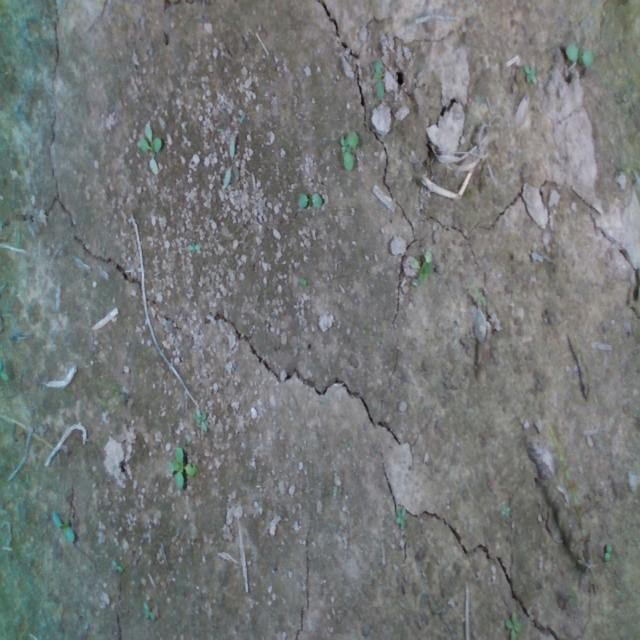weed: (168, 442, 196, 495), (564, 36, 594, 73), (138, 121, 162, 160), (337, 129, 357, 173), (51, 511, 75, 541), (298, 189, 324, 211), (414, 250, 428, 284), (393, 504, 411, 529), (498, 499, 512, 522), (525, 61, 537, 84)
